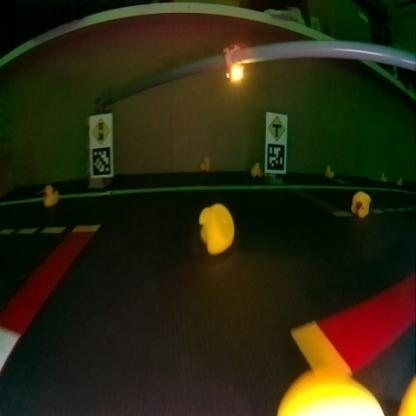Duckie: (198, 204, 234, 253), (352, 190, 370, 216), (42, 186, 58, 206), (250, 163, 261, 177), (200, 157, 210, 171), (324, 165, 334, 177)
Intersection sign: (268, 115, 286, 142)
QR code: (267, 143, 285, 171), (91, 152, 111, 174)
Signal sign: (92, 118, 110, 144)
Traffic light: (224, 43, 241, 82)
